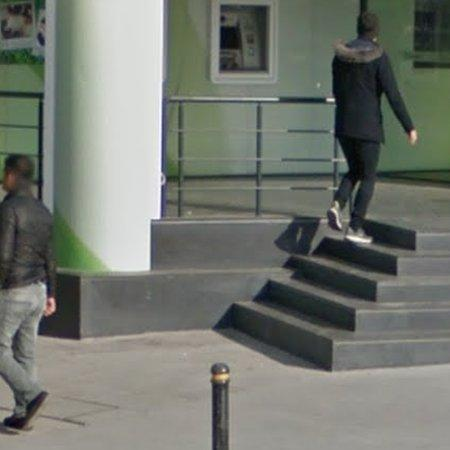stairs: (221, 220, 450, 370)
